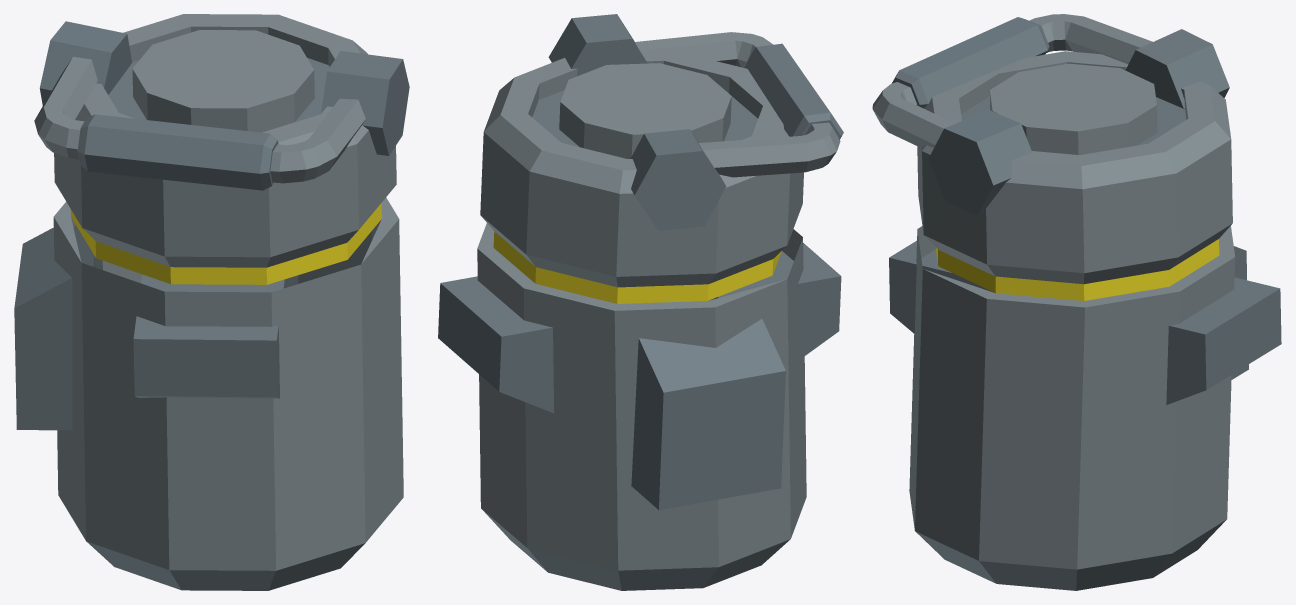
3 renders of one model, left to right at view 1: azimuth 30°, elevation 25°; view 2: azimuth 150°, elevation 25°; view 3: azimuth 270°, elevation 25°, orthographic. The views are drawn at different scales.
Parts seen in each view (by area): view 1: cylinder-convcol; view 2: cylinder-convcol; view 3: cylinder-convcol.
Boxes of the visible parts, box(x1,y1,x2,y2) form: cylinder-convcol: box(14, 14, 409, 590); cylinder-convcol: box(438, 14, 843, 590); cylinder-convcol: box(872, 14, 1281, 590).
Bounding box in the file's own units: 0.2662 × 0.3565 × 0.2883.
